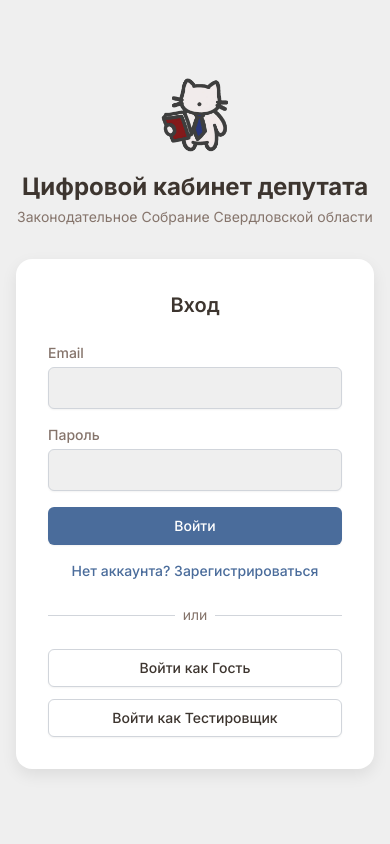
LoginPage › should display an error message if passwords do not match on registration
The width and height of the screenshot is (390, 844).
# Switch to registration view
Click the button "Нет аккаунта? Зарегистрироваться" at (195, 571), box [72,561,318,581]
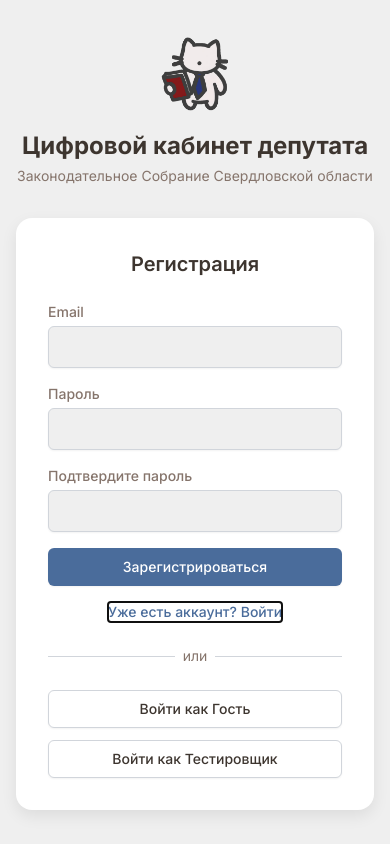
# Fill out the form with mismatched passwords
Type "test@test.com" into the field labelled "Email" at (195, 347), box [48,326,342,368]
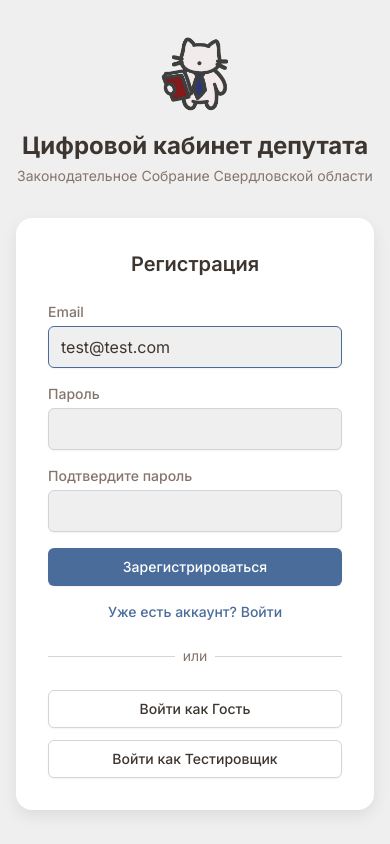
Type "password123" into the password field labelled "Пароль" at (195, 429), box [48,408,342,450]
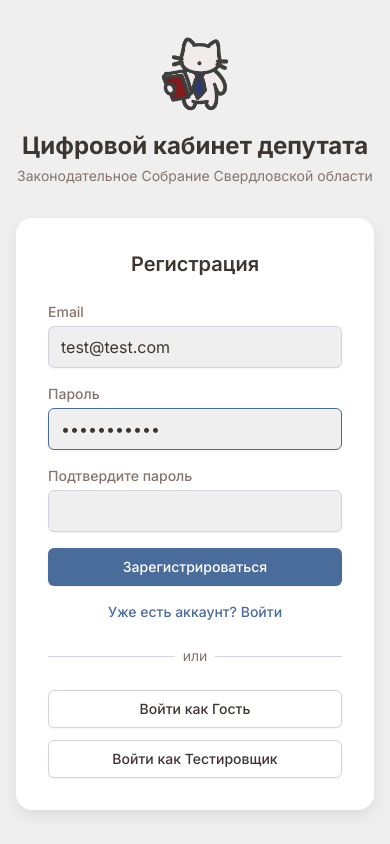
Type "password456" into the password field labelled "Подтвердите пароль" at (195, 511), box [48,490,342,532]
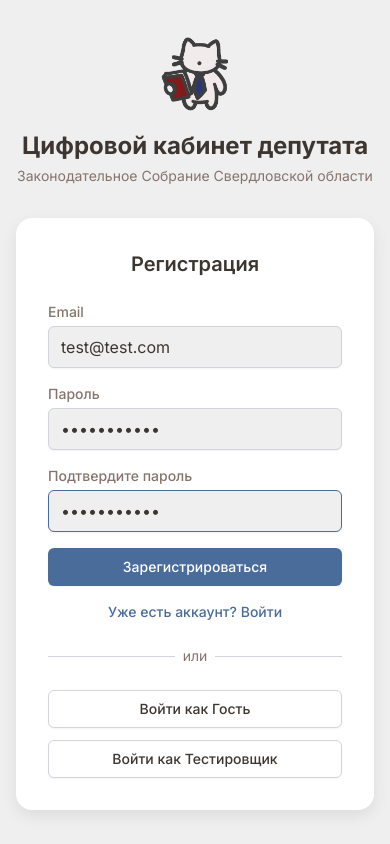
Click the button "Зарегистрироваться" at (195, 567), box [48,548,342,586]
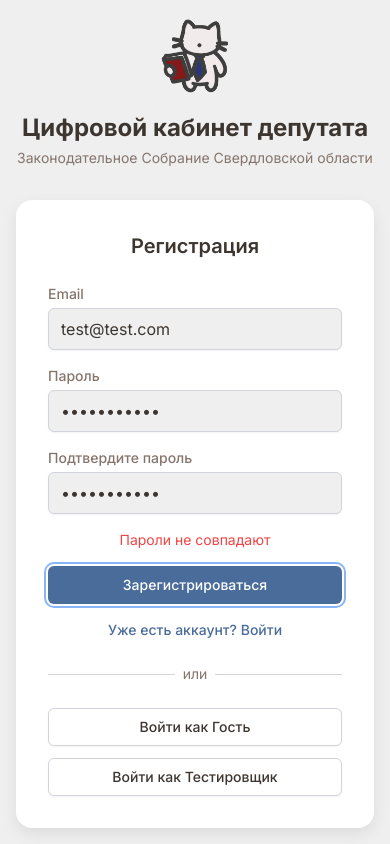
Check: the text "Пароли не совпадают" is shown, box [120,531,270,548]
